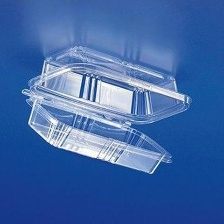plastic_box: (15, 39, 199, 181)
